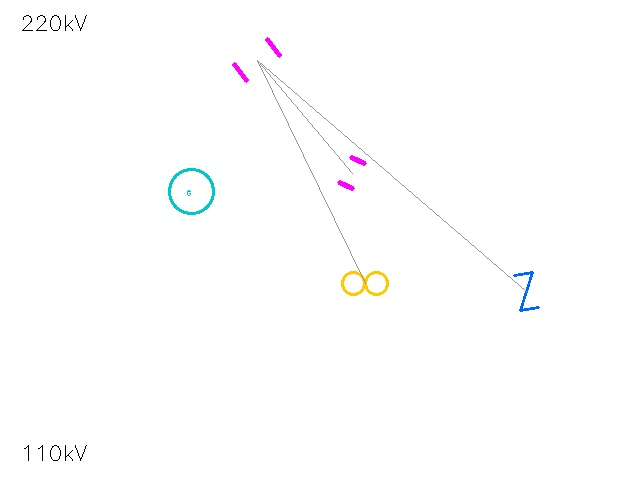capacitor: (223, 26, 291, 94), (329, 150, 375, 196)
circuit_breaker: (506, 271, 546, 311)
generator: (169, 169, 213, 213)
transformer_2w: (336, 254, 394, 312)
